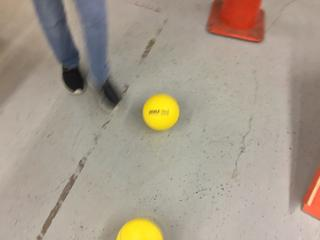power_cell: (141, 90, 183, 133), (114, 213, 167, 240)
